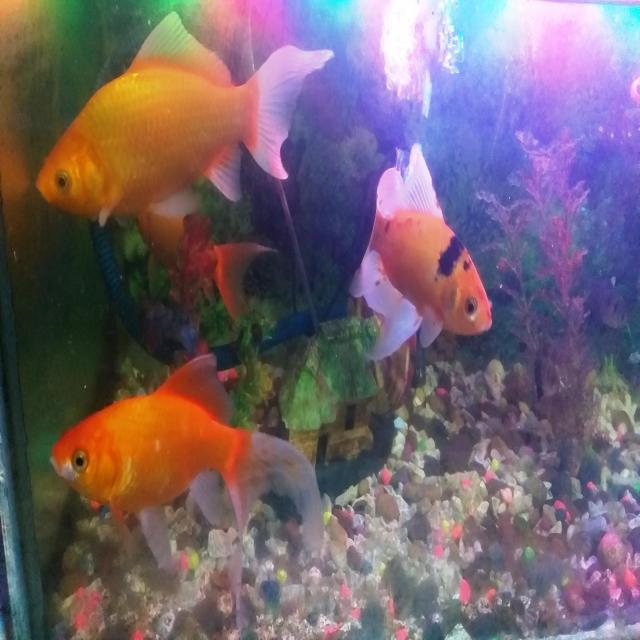GoldFish: (32, 8, 332, 232), (46, 356, 323, 549), (351, 151, 495, 357)
